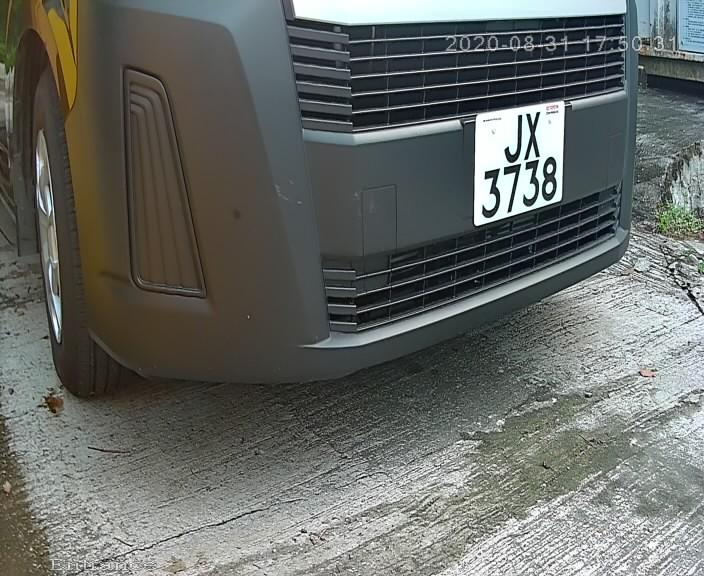License Plate: (459, 93, 573, 229)
